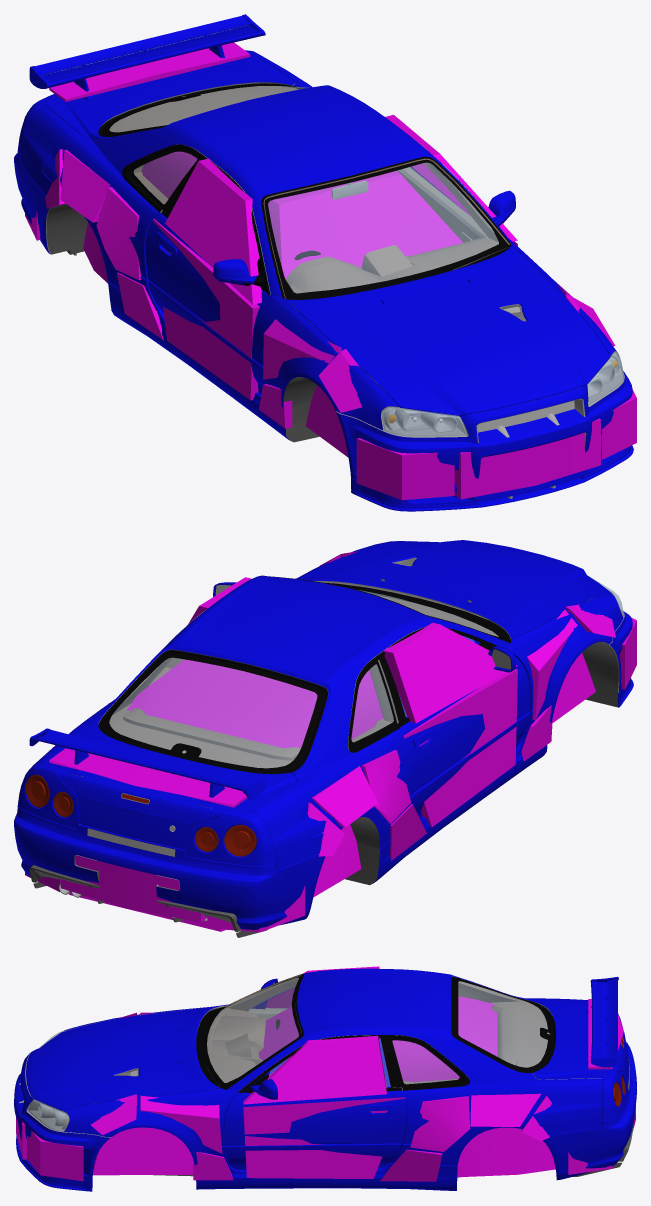
The model's file is Nissan_new.fbx.
3 views of the same model, one above another, from view 1: azimuth 30°, elevation 25°; view 2: azimuth 150°, elevation 25°; view 3: azimuth 270°, elevation 25° (orthographic). The views are drawn at different scales.
Visible parts, largest first — view 1: NissanBase, polySurface1090, pasted__pasted__pasted__BodyCol1, polySurface997, salon1, polySurface1030, pasted__DoorFrontRightCol1, pasted__DoorFrontRightCol, polySurface357, polySurface1088, pasted__pasted__BumperRCol2, polySurface350 (+16 smaller); view 2: NissanBase, polySurface1095, polySurface605, pasted__pasted__pasted__BodyCol1, salon1, pasted__DoorFrontRightCol1, polySurface357, pasted__DoorFrontRightCol, polySurface1030, polySurface350, polySurface1088, pasted__BumperRCol2 (+14 smaller); view 3: NissanBase, pasted__pasted__pasted__BodyCol1, polySurface1087, salon1, polySurface987, pasted__DoorFrontLeftCol, pasted__DoorFrontLeftCol1, polySurface1090, polySurface1095, polySurface973, polySurface605, pasted__pasted__pasted__BodyCol2 (+16 smaller).
Part boxes in pixels (x1=…): NissanBase: x1=18, y1=50, x2=624, y2=442; polySurface1090: x1=268, y1=163, x2=498, y2=293; pasted__pasted__pasted__BodyCol1: x1=83, y1=151, x2=462, y2=283; polySurface997: x1=336, y1=371, x2=633, y2=511; salon1: x1=109, y1=86, x2=498, y2=293; polySurface1030: x1=145, y1=210, x2=271, y2=393; pasted__DoorFrontRightCol1: x1=165, y1=158, x2=262, y2=304; pasted__DoorFrontRightCol: x1=153, y1=218, x2=259, y2=400; polySurface357: x1=20, y1=104, x2=159, y2=311; polySurface1088: x1=29, y1=14, x2=265, y2=100; pasted__pasted__BumperRCol2: x1=454, y1=418, x2=600, y2=499; polySurface350: x1=264, y1=296, x2=399, y2=430; NissanBase: x1=18, y1=540, x2=624, y2=896; polySurface1095: x1=109, y1=658, x2=316, y2=767; polySurface605: x1=14, y1=805, x2=325, y2=937; pasted__pasted__pasted__BodyCol1: x1=69, y1=659, x2=383, y2=931; salon1: x1=109, y1=596, x2=498, y2=768; pasted__DoorFrontRightCol1: x1=383, y1=622, x2=517, y2=723; polySurface357: x1=252, y1=728, x2=415, y2=868; pasted__DoorFrontRightCol: x1=403, y1=669, x2=517, y2=827; polySurface1030: x1=397, y1=642, x2=529, y2=816; polySurface350: x1=508, y1=592, x2=623, y2=738; polySurface1088: x1=29, y1=728, x2=265, y2=808; pasted__BumperRCol2: x1=61, y1=855, x2=206, y2=922; NissanBase: x1=25, y1=968, x2=629, y2=1190; pasted__pasted__pasted__BodyCol1: x1=258, y1=996, x2=555, y2=1177; polySurface1087: x1=224, y1=1074, x2=407, y2=1169; salon1: x1=207, y1=981, x2=547, y2=1084; polySurface987: x1=392, y1=1078, x2=602, y2=1165; pasted__DoorFrontLeftCol: x1=243, y1=1097, x2=405, y2=1178; pasted__DoorFrontLeftCol1: x1=243, y1=1035, x2=386, y2=1104; polySurface1090: x1=207, y1=978, x2=298, y2=1082; polySurface1095: x1=458, y1=981, x2=547, y2=1067; polySurface973: x1=62, y1=1088, x2=236, y2=1165; polySurface605: x1=543, y1=1042, x2=636, y2=1180; pasted__pasted__pasted__BodyCol2: x1=93, y1=1127, x2=193, y2=1175.
Size of the model in its own units: 201 by 126 by 476.
